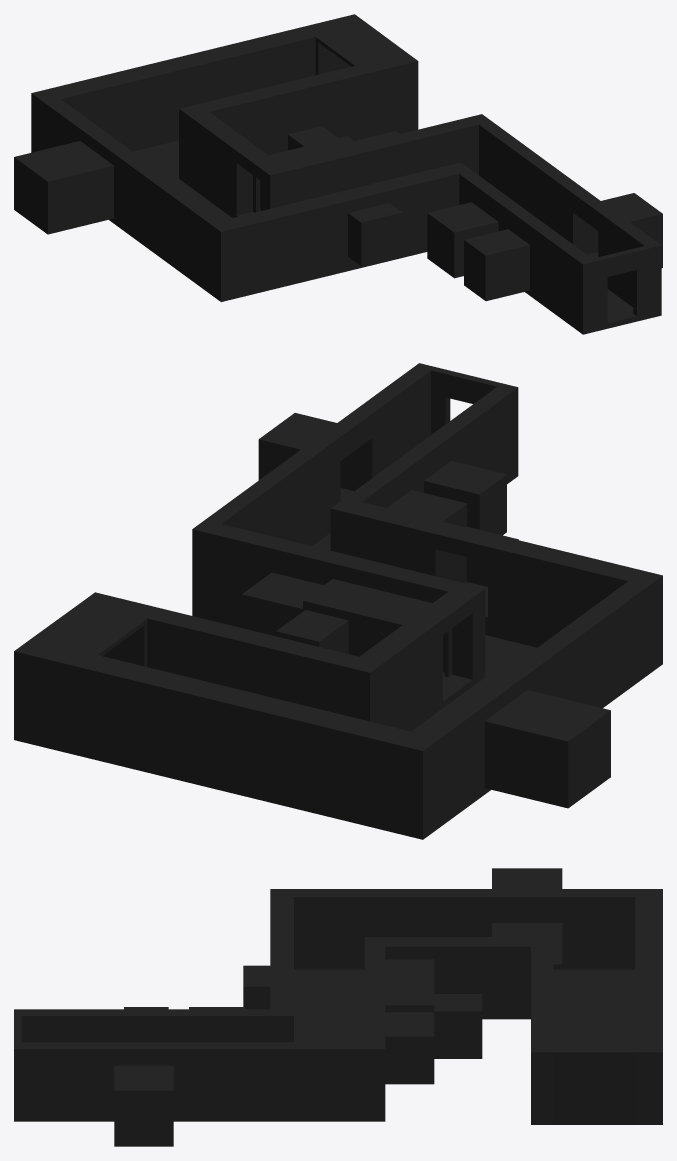
File: Mapa3D.fbx
3 renders of one model, top to bottom at view 1: azimuth 30°, elevation 25°; view 2: azimuth 150°, elevation 25°; view 3: azimuth 270°, elevation 25°, orthographic. The views are drawn at different scales.
Parts seen in each view (by area): view 1: Mapa; view 2: Mapa; view 3: Mapa.
Part boxes in pixels (box(x1,y1,x2,y2)): Mapa: box(14, 14, 662, 334); Mapa: box(14, 363, 662, 839); Mapa: box(14, 868, 662, 1146).
Bounding box in the file's own units: 6618 × 1026 × 8310.
Materials: 1 (1 with a texture image).
